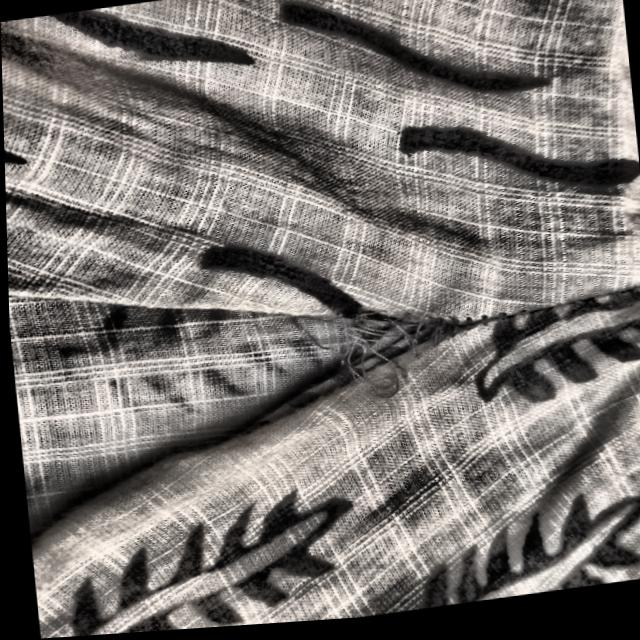Stitch: (263, 250, 531, 454)
